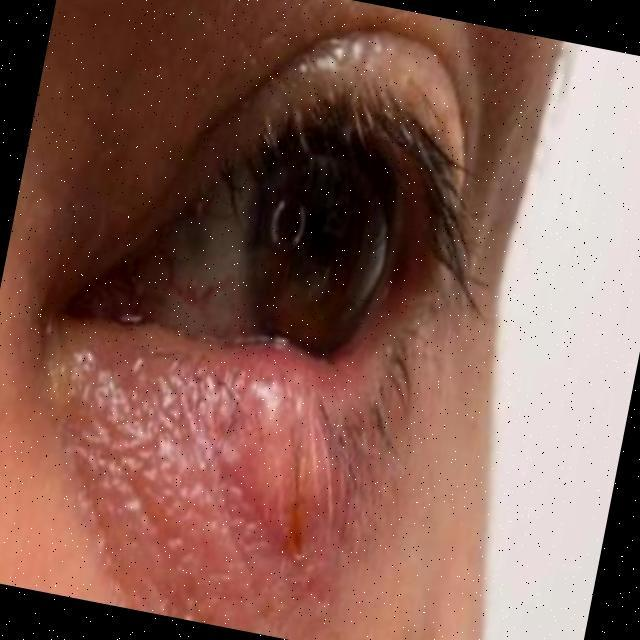Stye: (164, 277, 430, 614)
